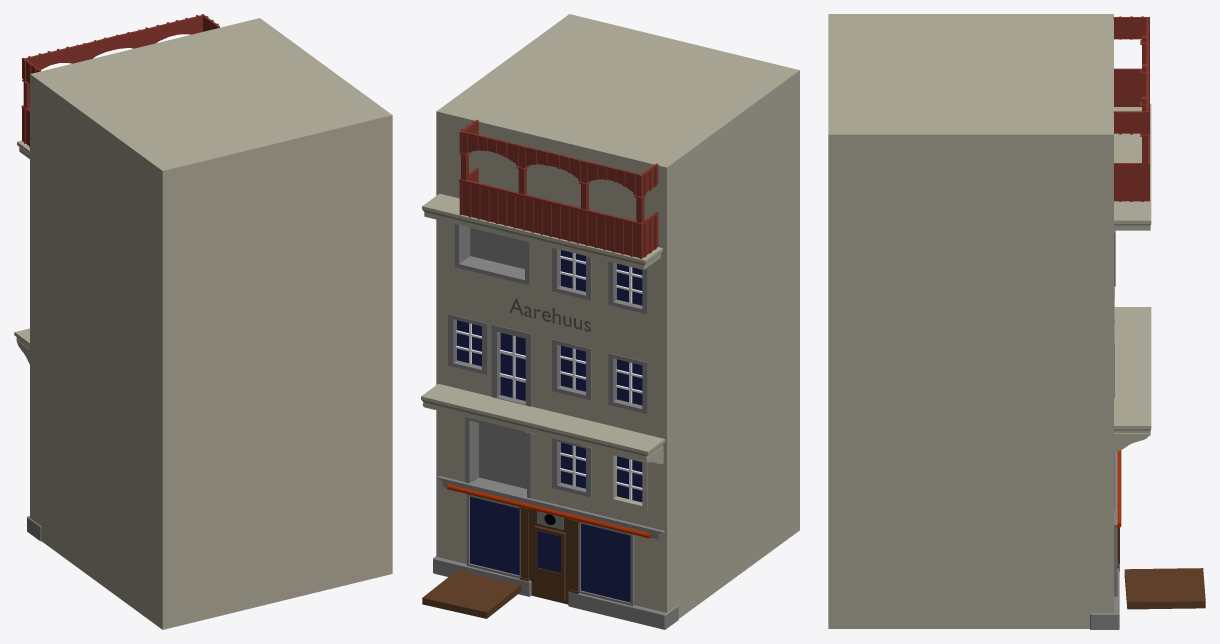
The model's file is Aarehuus.fbx.
3 renders of one model, left to right at view 1: azimuth 30°, elevation 25°; view 2: azimuth 150°, elevation 25°; view 3: azimuth 270°, elevation 25°, orthographic. The views are drawn at different scales.
Visible parts, largest first — view 1: Cube.8824, Cube.8822; view 2: Cube.8824, Cube.8814, Cube.8769, Cube.8774, Cube.8822, Cube.8813, Cube.8812, Cube.8775, Cube.8784, Cube.8783, Cube.8781, Cube.8786 (+24 smaller); view 3: Cube.8824, Cube.8769, Cube.8783, Cube.8814, Cube.8784, Cube.8822, Cube.8785.
Boxes of the visible parts, x1,y1,x2,y2 form: Cube.8824: (30,18,392,629); Cube.8822: (22,14,219,84); Cube.8824: (436,14,799,618); Cube.8814: (459,168,658,258); Cube.8769: (421,384,665,460); Cube.8774: (465,417,530,498); Cube.8822: (459,119,658,196); Cube.8813: (581,523,630,602); Cube.8812: (470,496,519,575); Cube.8775: (454,224,530,285); Cube.8784: (422,193,662,269); Cube.8783: (422,570,521,618); Cube.8781: (529,509,570,604); Cube.8786: (568,591,678,629); Cube.8824: (828,14,1113,628); Cube.8769: (1114,307,1151,435); Cube.8783: (1124,568,1205,609); Cube.8814: (1114,68,1149,201); Cube.8784: (1114,103,1151,230); Cube.8822: (1113,16,1149,134); Cube.8785: (1090,564,1119,629).
Bounding box in the file's own units: 777 × 1476 × 1016.
